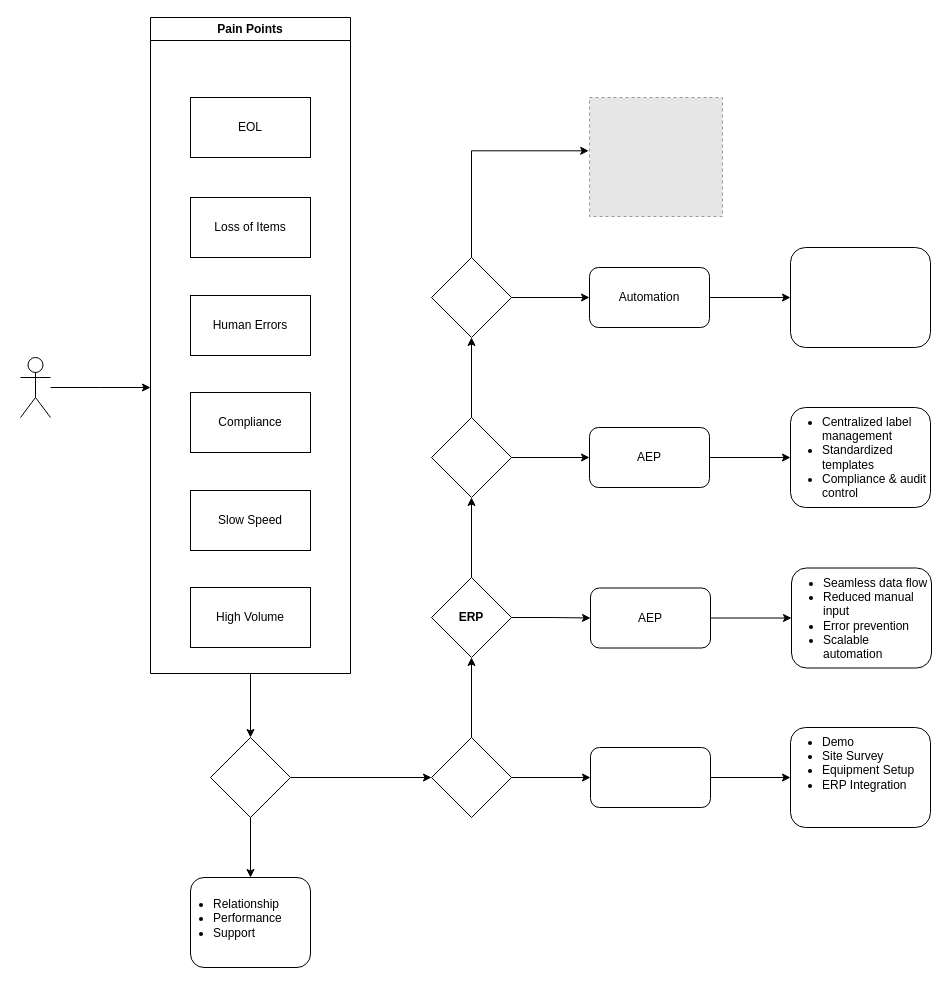
The diagram is 949 pixels wide and 985 high, and some of its shapes have lost their labels. Grey dashed boxes stand in for pictures. Here are the shapes that lost their labels. From the top down, the box of each, then its label:
(430, 256, 512, 338): Manual Excel
(790, 246, 930, 348): Reduce manpower Eliminate human error Improve speed & consistency
(20, 356, 50, 418): Clients
(430, 416, 512, 498): Central
(210, 736, 290, 818): Zebra?
(430, 736, 512, 818): Normal Labels
(590, 746, 710, 808): RFID
